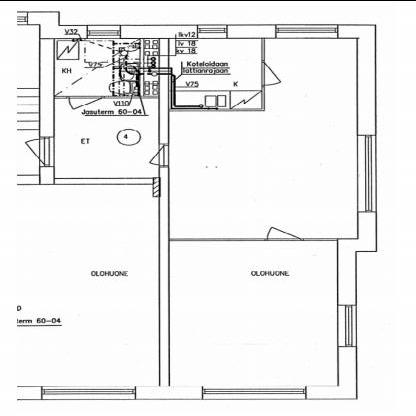door: (25, 131, 59, 168), (257, 225, 303, 245), (255, 57, 285, 87), (145, 139, 173, 169), (64, 91, 104, 109)
window: (348, 127, 382, 217), (197, 382, 310, 404), (39, 379, 139, 402), (272, 20, 344, 43), (331, 298, 361, 350), (82, 18, 126, 42), (193, 17, 235, 42)
